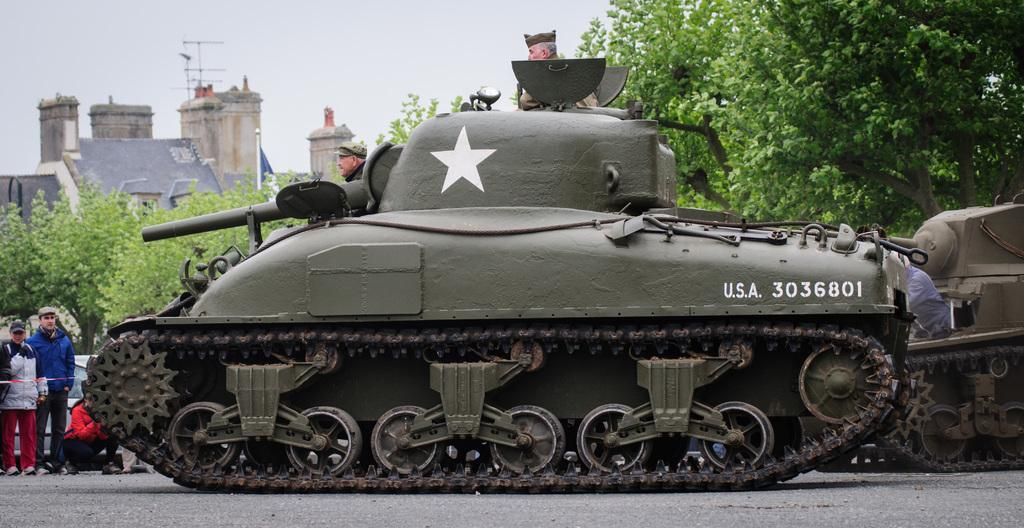Tank: (81, 59, 927, 492), (767, 196, 1023, 474)
